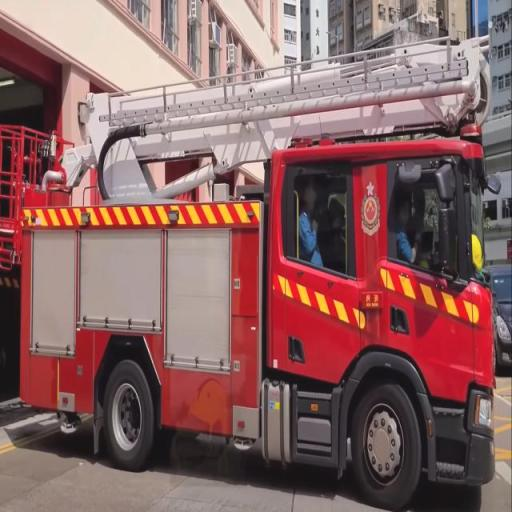fire truck: (12, 15, 500, 496)
